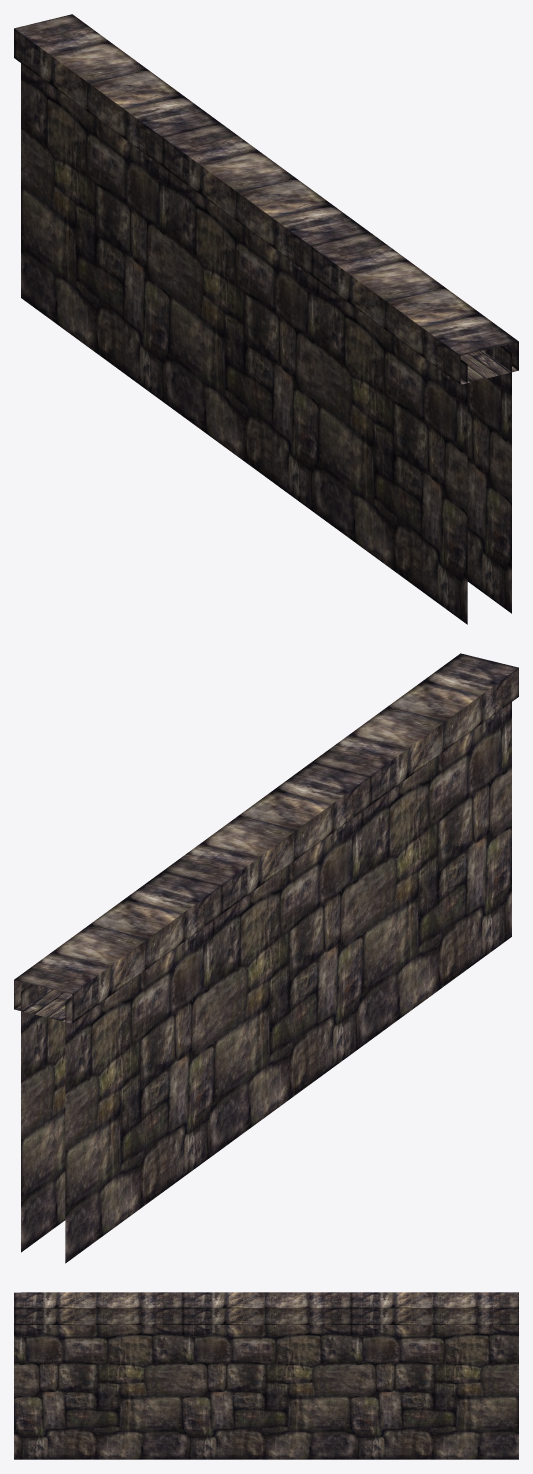
Rendered from pir_m_bld_wal_mossyStone_triple.fbx.
The picture shows the model from 3 angles, top to bottom: view 1: azimuth 30°, elevation 25°; view 2: azimuth 150°, elevation 25°; view 3: azimuth 270°, elevation 25°; orthographic projection. The views are drawn at different scales.
Visible parts, largest first — view 1: main; view 2: main; view 3: main.
Boxes of the visible parts, box(x1,y1,x2,y2) form: main: box(14, 14, 518, 624); main: box(14, 653, 518, 1263); main: box(14, 1292, 518, 1459).
Bounding box in the file's own units: 362 × 1608 × 4800.
1 material, 1 textured.
